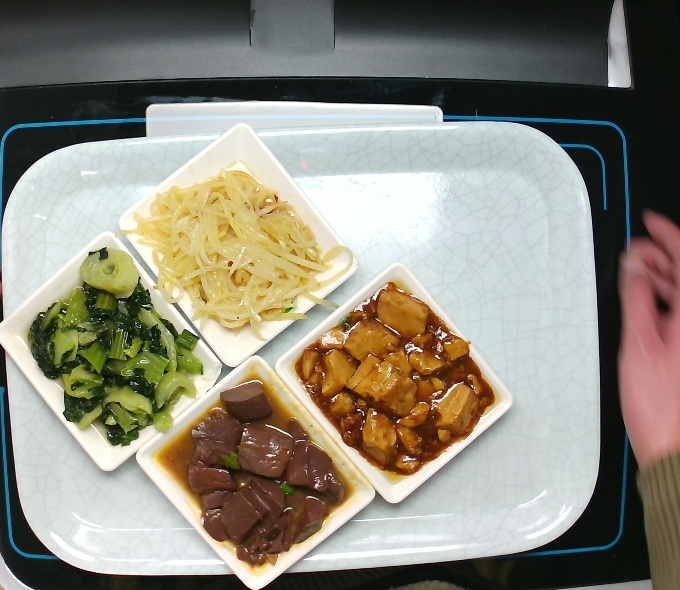wcq-MaPoDouFu: (306, 287, 490, 476)
wcq-NiuXue: (161, 381, 345, 570)
wcq-TuDouSi: (135, 157, 345, 342)
wcq-YouDongCai: (12, 245, 207, 459)
